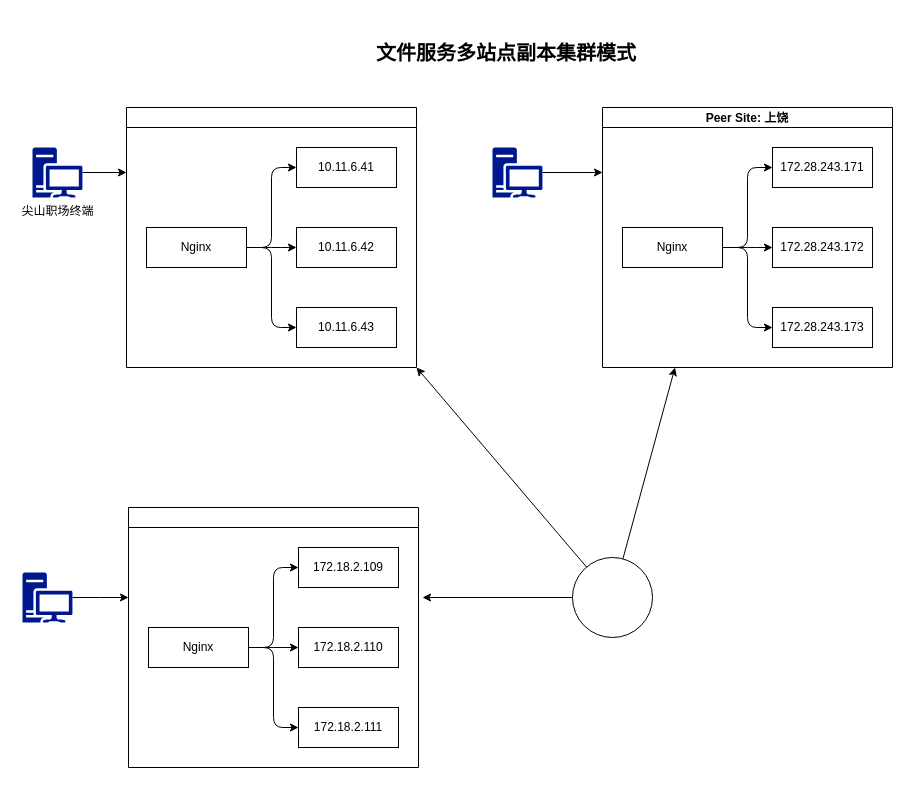
The diagram is 910 pixels wide and 785 high, and some of its shapes have lost their labels. Each missing label, with the box of its shape:
Peer Site: 上海（默认）: (128, 506, 418, 768)
Peer Site: 尖山: (126, 106, 416, 368)
上饶职场终端: (492, 147, 542, 197)
其他区终端: (22, 572, 72, 622)
控制台: (572, 556, 652, 638)
